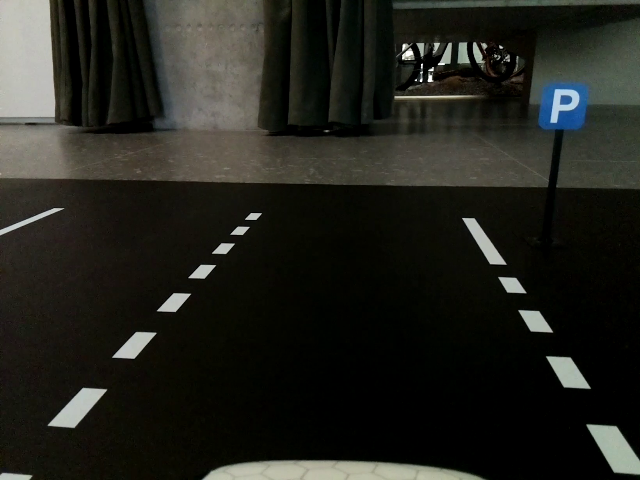park: (542, 85, 585, 133)
